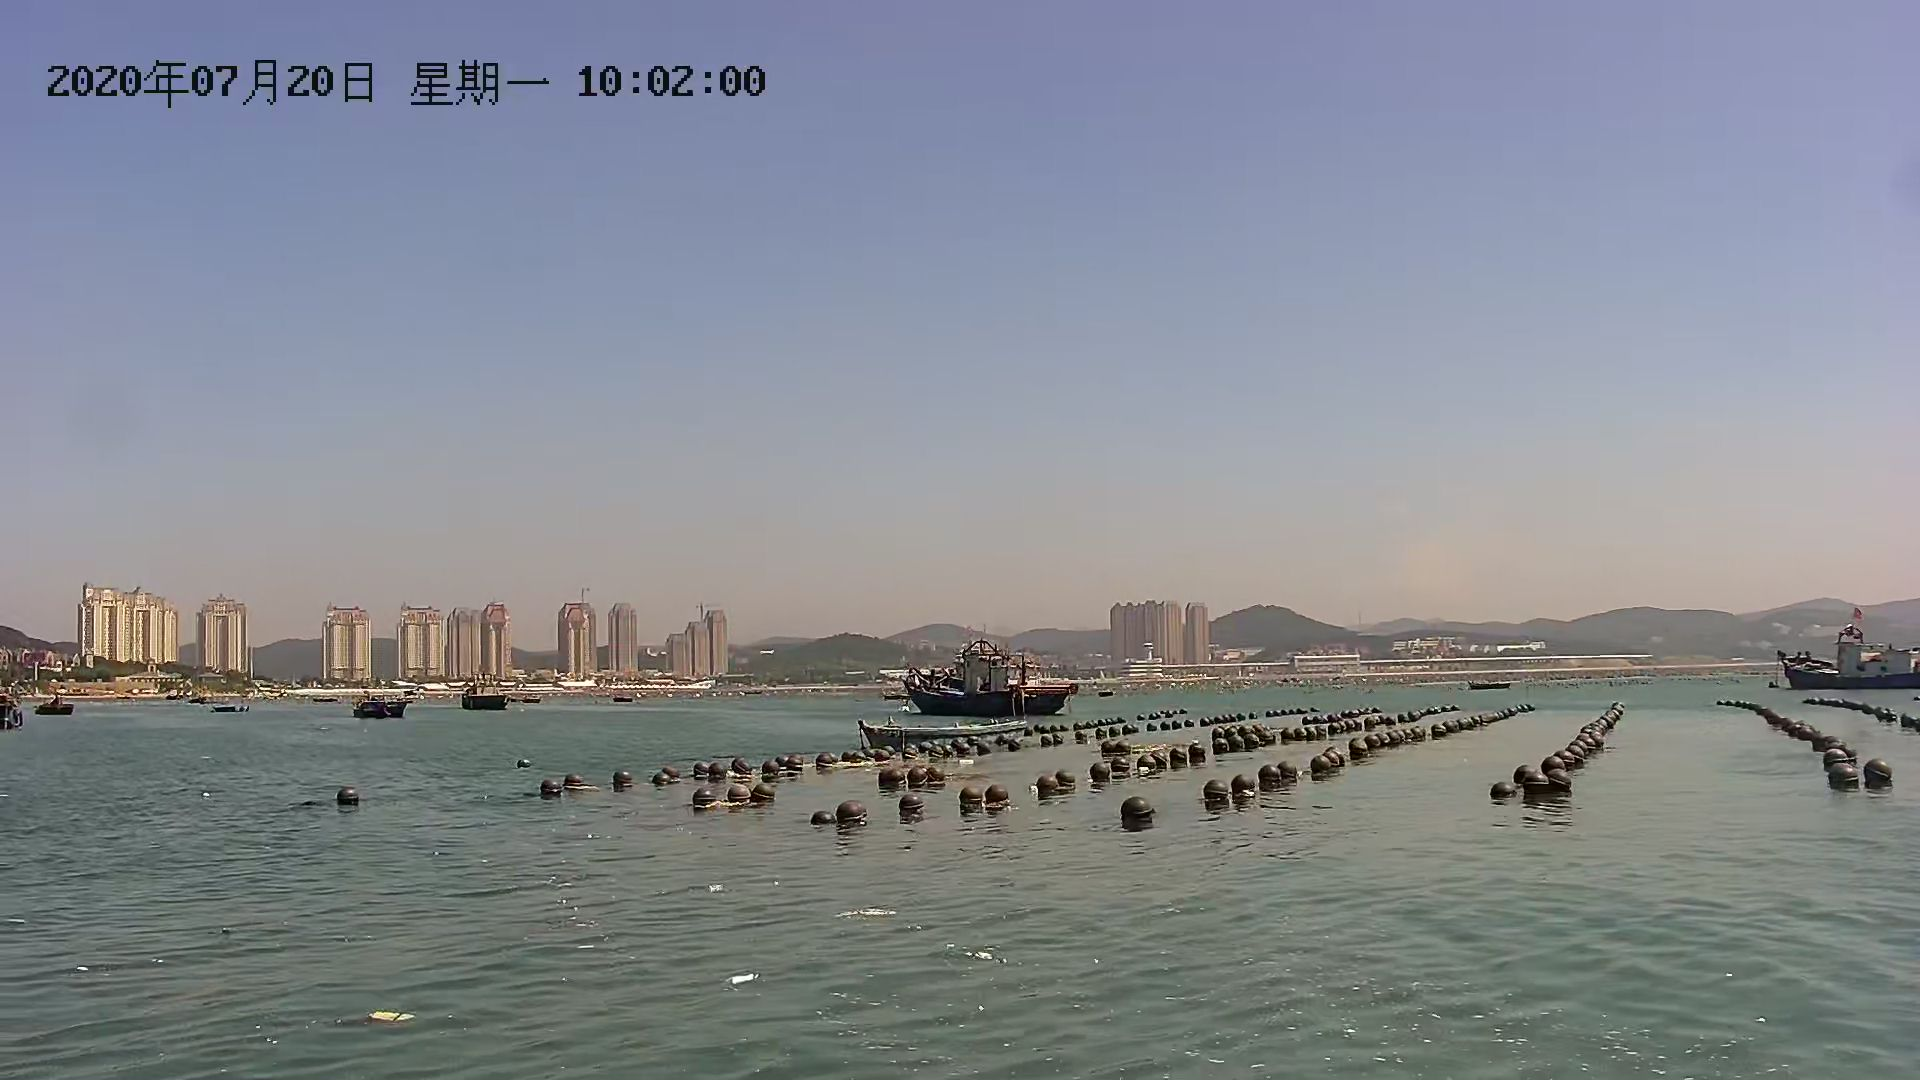ball: (1116, 791, 1160, 831), (953, 778, 990, 814), (836, 796, 872, 832), (1200, 778, 1234, 811), (1822, 761, 1858, 793), (1865, 750, 1891, 791), (725, 778, 754, 815), (330, 782, 367, 810), (1526, 769, 1553, 803), (895, 793, 924, 822), (752, 782, 781, 806), (1486, 778, 1515, 802), (690, 785, 716, 804), (611, 767, 634, 789), (541, 777, 560, 800)
boat: (851, 713, 1058, 749), (353, 694, 410, 721), (36, 687, 82, 717), (462, 687, 514, 711)
ship: (902, 647, 1073, 717), (1772, 622, 1920, 694)
